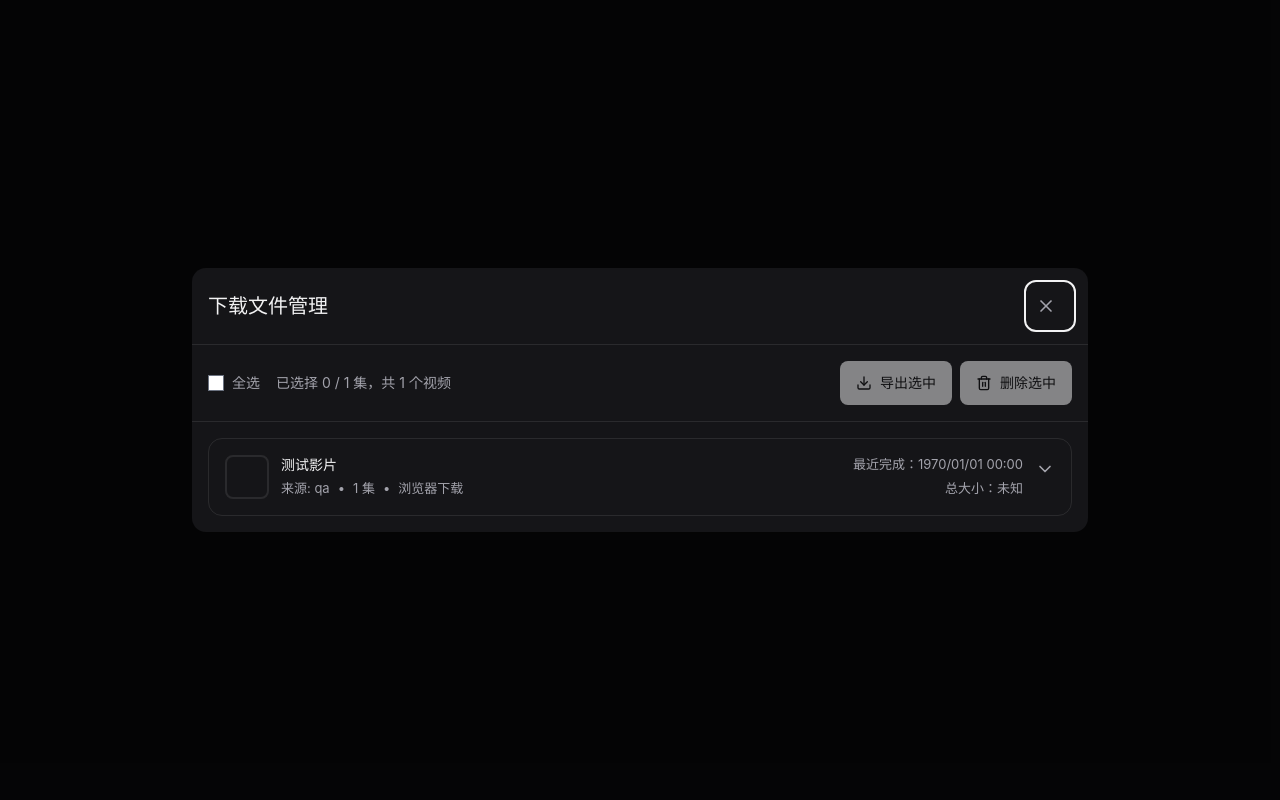
Test: download groups and individual selections are native keyboard controls
The image size is (1280, 800).
Expected: the text "测试影片" is shown, [281,456,337,473]
Click the button with aria-label "展开 测试影片" at coordinates (309, 465), box [281,455,1055,499]
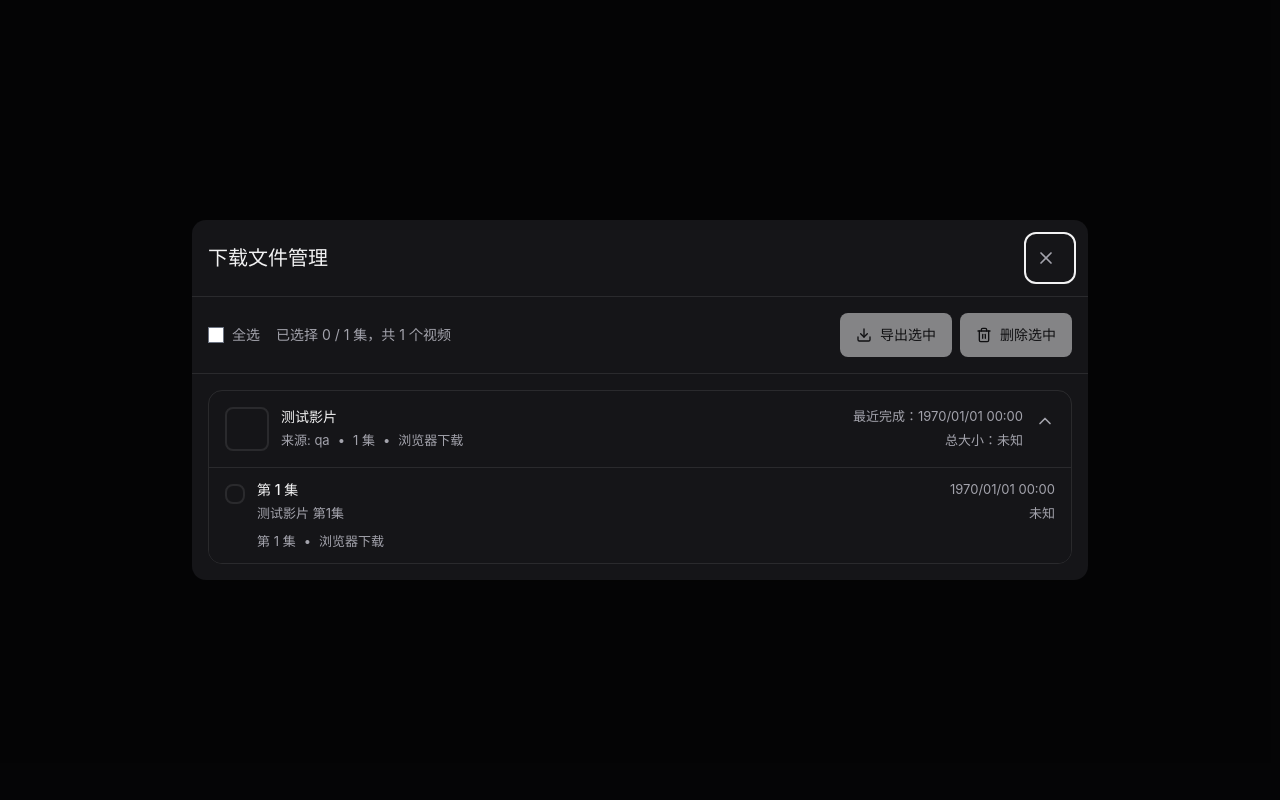
Now the button named "展开 测试影片" is expanded, box [281,407,1055,451]
Click the button "第 1 集 测试影片 第1集 1970/01/01 00:00 未知 第 1 集 • 浏览器下载" at coordinates (300, 513), box [209,468,1071,563]
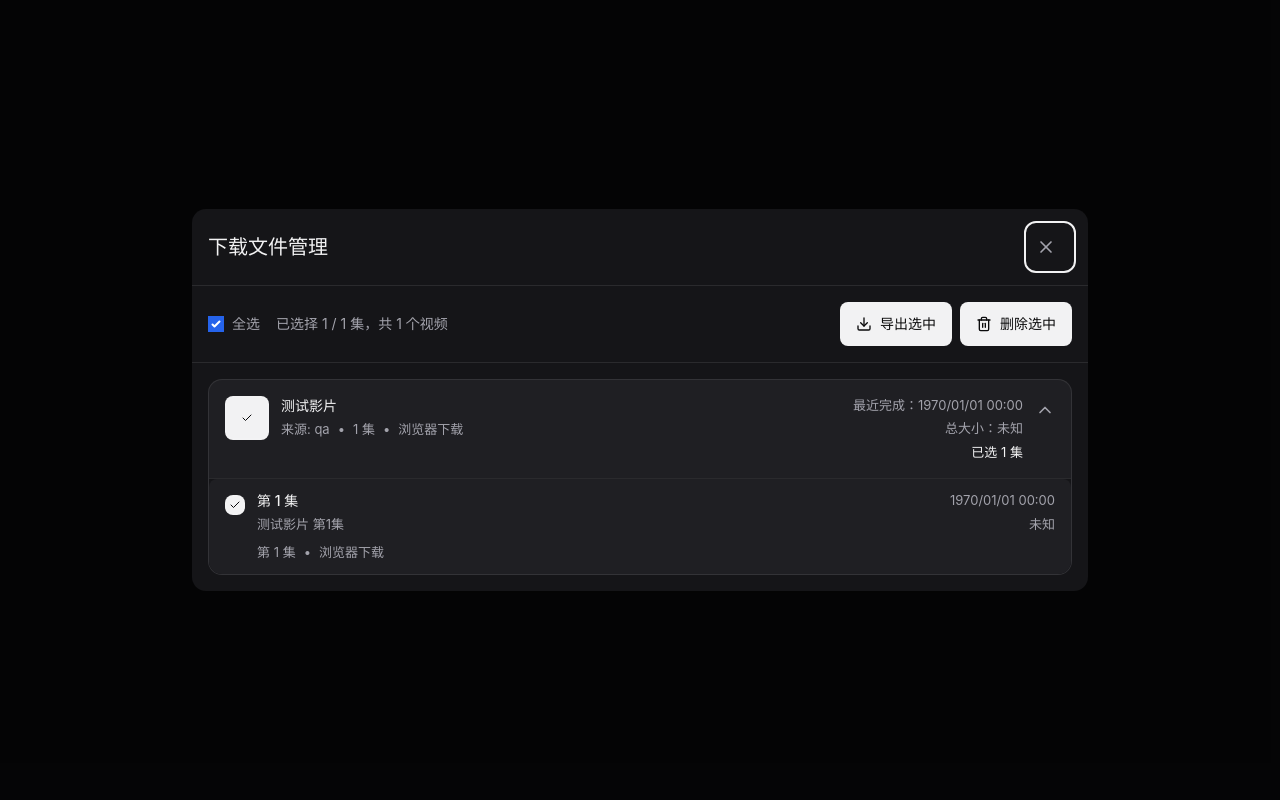
Now the text "已选择 1 / 1 集，共 1 个视频" is shown, box [276,314,448,334]
